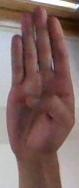B: (1, 0, 79, 188)
